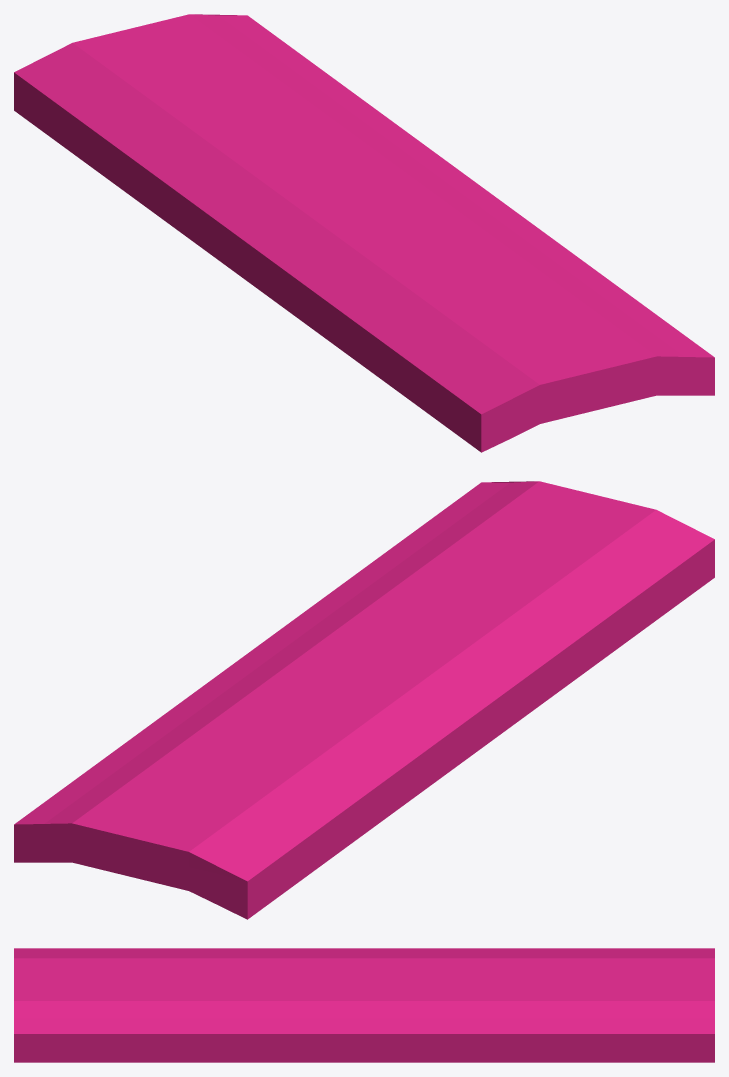
File: Channel 1.fbx
3 renders of one model, top to bottom at view 1: azimuth 30°, elevation 25°; view 2: azimuth 150°, elevation 25°; view 3: azimuth 270°, elevation 25°, orthographic. The views are drawn at different scales.
Parts seen in each view (by area): view 1: Channel; view 2: Channel; view 3: Channel.
Boxes of the visible parts, x1,y1,x2,y2 form: Channel: [14, 14, 714, 452]; Channel: [14, 481, 714, 919]; Channel: [14, 948, 714, 1062].
Size of the model in its own units: 59.84 by 13.11 by 207.
